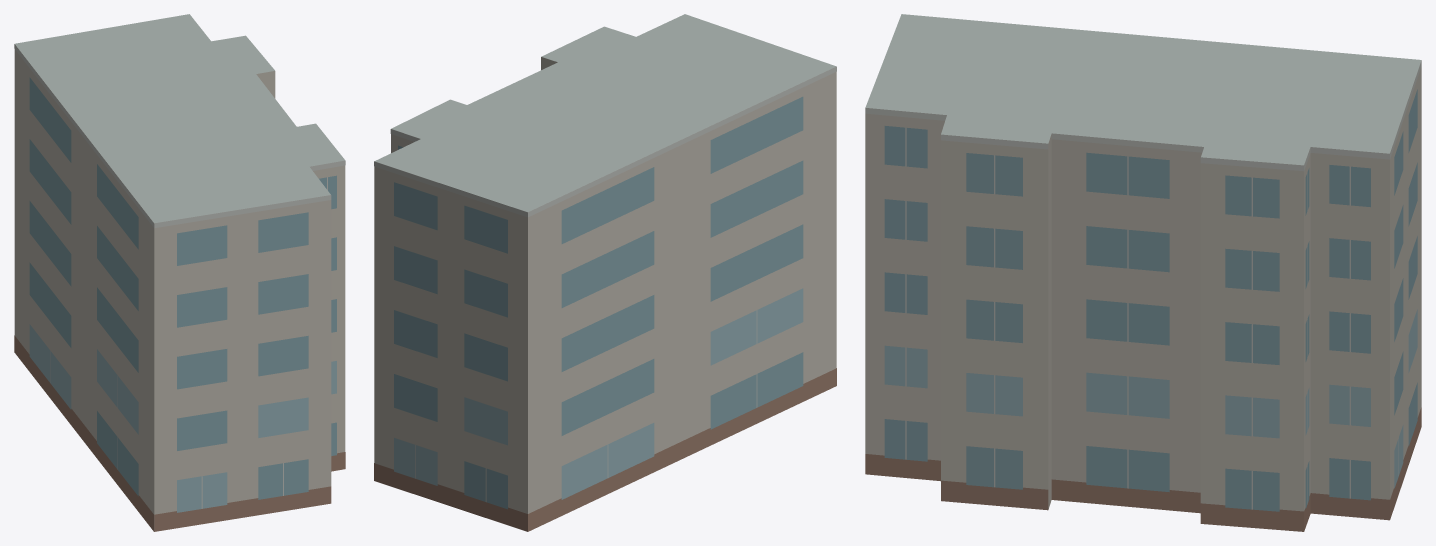
Rendered from survey-upis-32957268.glb.
The picture shows the model from 3 angles, left to right: view 1: azimuth 30°, elevation 25°; view 2: azimuth 150°, elevation 25°; view 3: azimuth 270°, elevation 25°; orthographic projection. The views are drawn at different scales.
Parts seen in each view (by area): view 1: survey-upis-32957268.tmp; view 2: survey-upis-32957268.tmp; view 3: survey-upis-32957268.tmp.
Boxes of the visible parts, x1,y1,x2,y2 form: survey-upis-32957268.tmp: [14, 14, 345, 531]; survey-upis-32957268.tmp: [374, 14, 836, 531]; survey-upis-32957268.tmp: [865, 14, 1421, 531].
Size of the model in its own units: 13.52 by 15.25 by 20.99.
